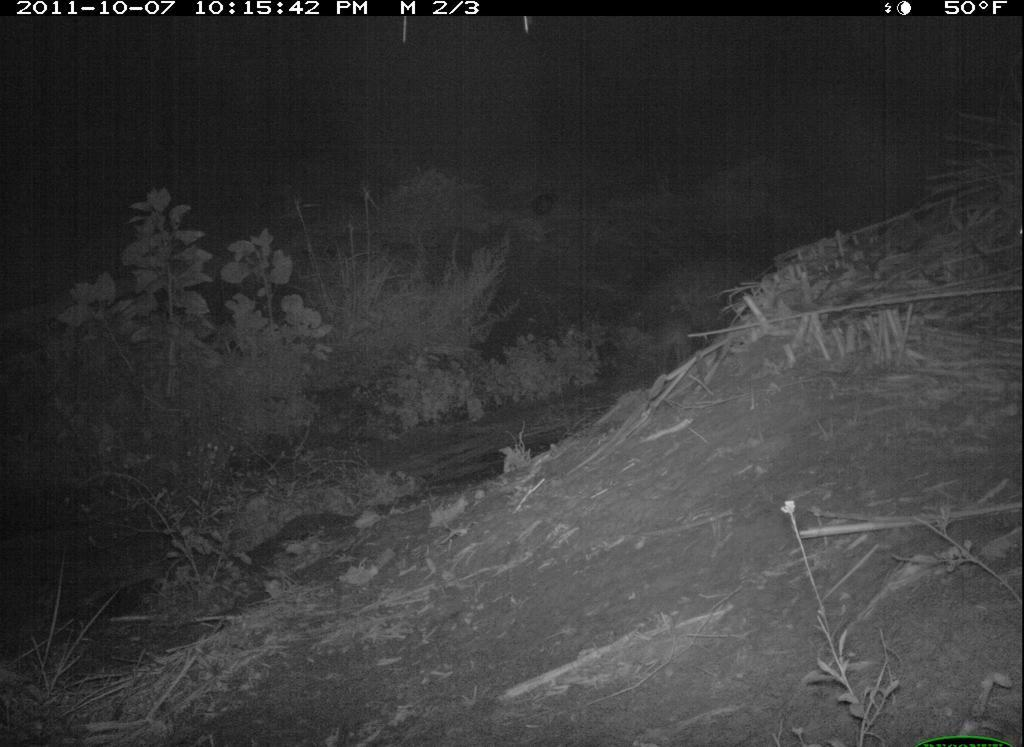coyote: (632, 309, 710, 391)
